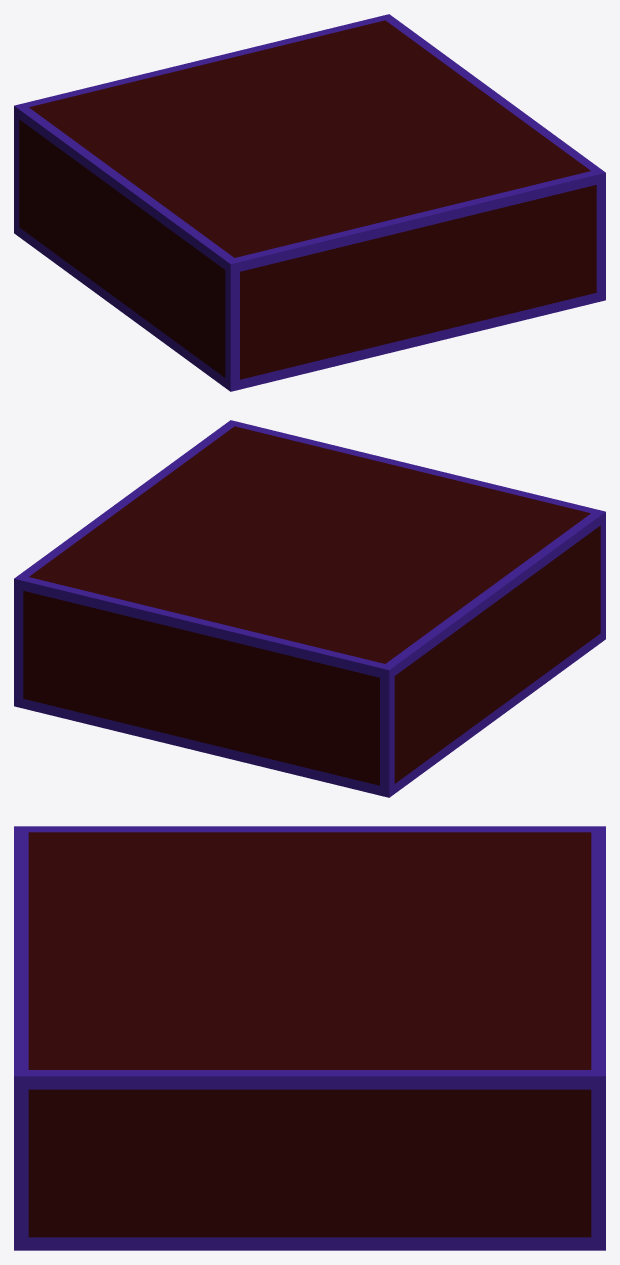
File: Tile_minable.vox.obj
The picture shows the model from 3 angles, top to bottom: view 1: azimuth 30°, elevation 25°; view 2: azimuth 150°, elevation 25°; view 3: azimuth 270°, elevation 25°; orthographic projection. The views are drawn at different scales.
Bounding box in the file's own units: 4 × 1.3 × 4.
1 material, 1 textured.
